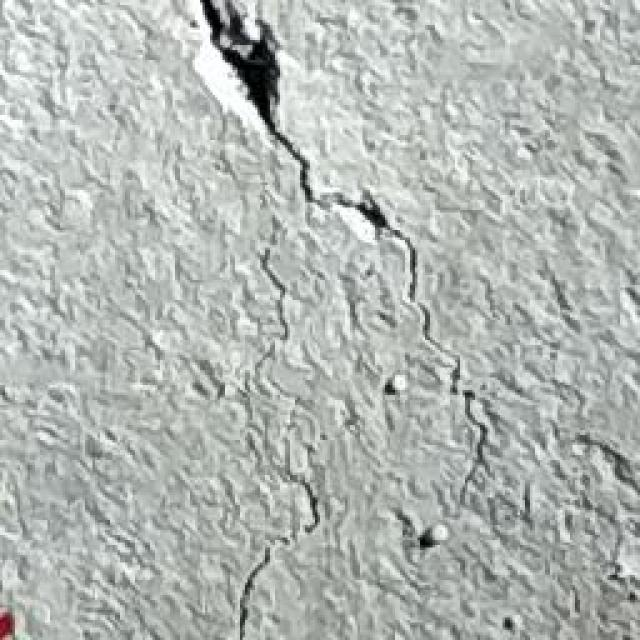Network: (156, 11, 640, 640)
